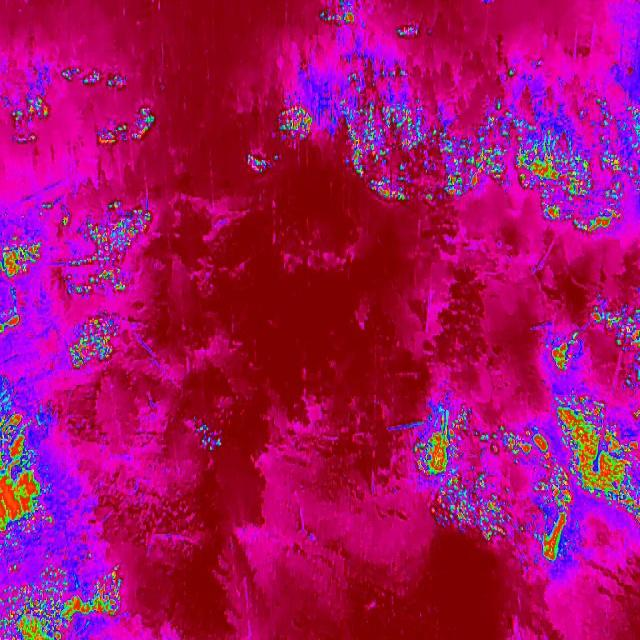fire: (332, 70, 630, 235), (555, 391, 640, 524), (58, 203, 162, 298), (0, 567, 131, 640), (430, 470, 526, 544), (0, 409, 48, 541), (590, 302, 640, 400), (0, 235, 46, 337), (93, 100, 161, 158), (472, 424, 557, 464), (64, 314, 124, 370), (54, 62, 130, 96), (412, 419, 453, 480), (538, 508, 574, 568), (548, 326, 586, 379), (275, 103, 315, 145), (12, 92, 54, 132), (318, 0, 361, 32), (541, 466, 573, 506), (246, 147, 280, 175), (194, 422, 223, 452), (396, 22, 426, 42)
